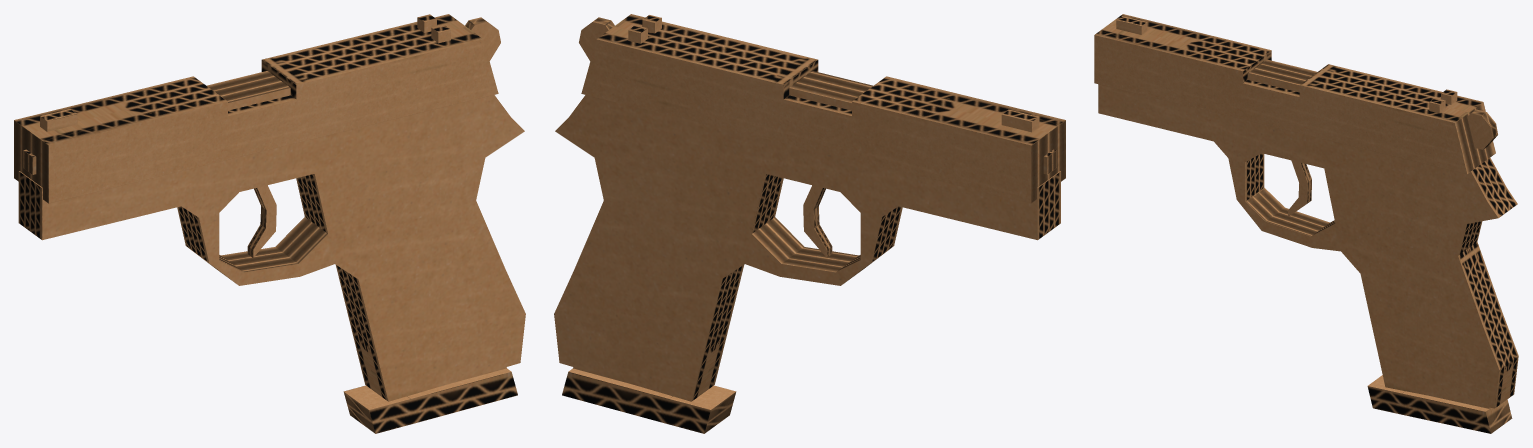
File: cardboard_gun 1.fbx
3 renders of one model, left to right at view 1: azimuth 30°, elevation 25°; view 2: azimuth 150°, elevation 25°; view 3: azimuth 330°, elevation 25°, orthographic. The views are drawn at different scales.
Parts seen in each view (by area): view 1: Gun_body, Slide, Magazine, Trigger, Hammer; view 2: Gun_body, Slide, Magazine, Trigger, Hammer; view 3: Gun_body, Slide, Magazine, Hammer, Trigger.
Part boxes in pixels (box(x1,y1,x2,y2)): Gun_body: box(18, 71, 525, 401); Slide: box(14, 14, 498, 203); Magazine: box(343, 367, 517, 433); Trigger: box(247, 185, 276, 257); Hammer: box(465, 17, 500, 60); Gun_body: box(554, 71, 1060, 401); Slide: box(581, 14, 1065, 203); Magazine: box(562, 367, 736, 433); Trigger: box(803, 185, 832, 257); Hammer: box(579, 17, 614, 60); Gun_body: box(1098, 59, 1518, 408); Slide: box(1094, 14, 1495, 174); Magazine: box(1367, 375, 1512, 433); Hammer: box(1467, 109, 1497, 149); Trigger: box(1288, 160, 1311, 216).
Size of the model in its own units: 1924 by 1449 by 237.
